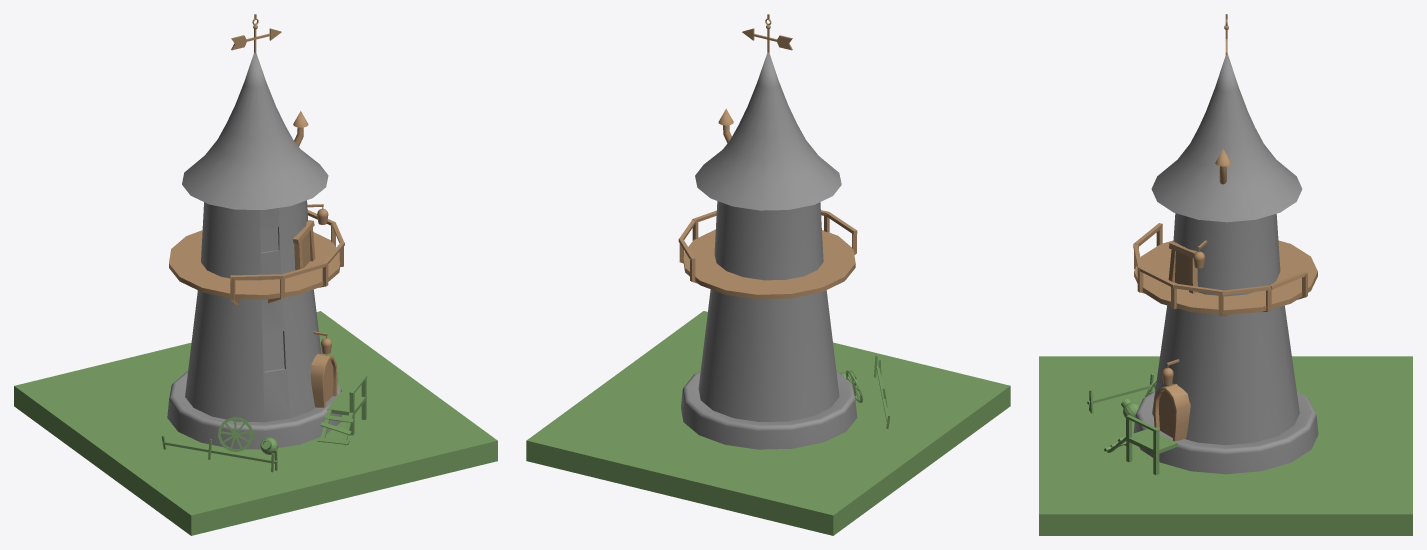
The model's file is torre.fbx.
The picture shows the model from 3 angles, left to right: view 1: azimuth 30°, elevation 25°; view 2: azimuth 150°, elevation 25°; view 3: azimuth 270°, elevation 25°; orthographic projection. The views are drawn at different scales.
Visible parts, largest first — view 1: Piso, Torre, Objetos; view 2: Piso, Torre, Objetos; view 3: Piso, Torre, Objetos.
Boxes of the visible parts, x1=… form: Piso: x1=14, y1=311, x2=497, y2=535; Torre: x1=167, y1=52, x2=342, y2=449; Objetos: x1=169, y1=14, x2=344, y2=407; Piso: x1=526, y1=311, x2=1010, y2=535; Torre: x1=681, y1=52, x2=857, y2=449; Objetos: x1=678, y1=14, x2=857, y2=299; Piso: x1=1039, y1=356, x2=1412, y2=535; Torre: x1=1133, y1=54, x2=1318, y2=474; Objetos: x1=1133, y1=14, x2=1317, y2=441.
Size of the model in its own units: 5.39 by 7.04 by 5.39.
